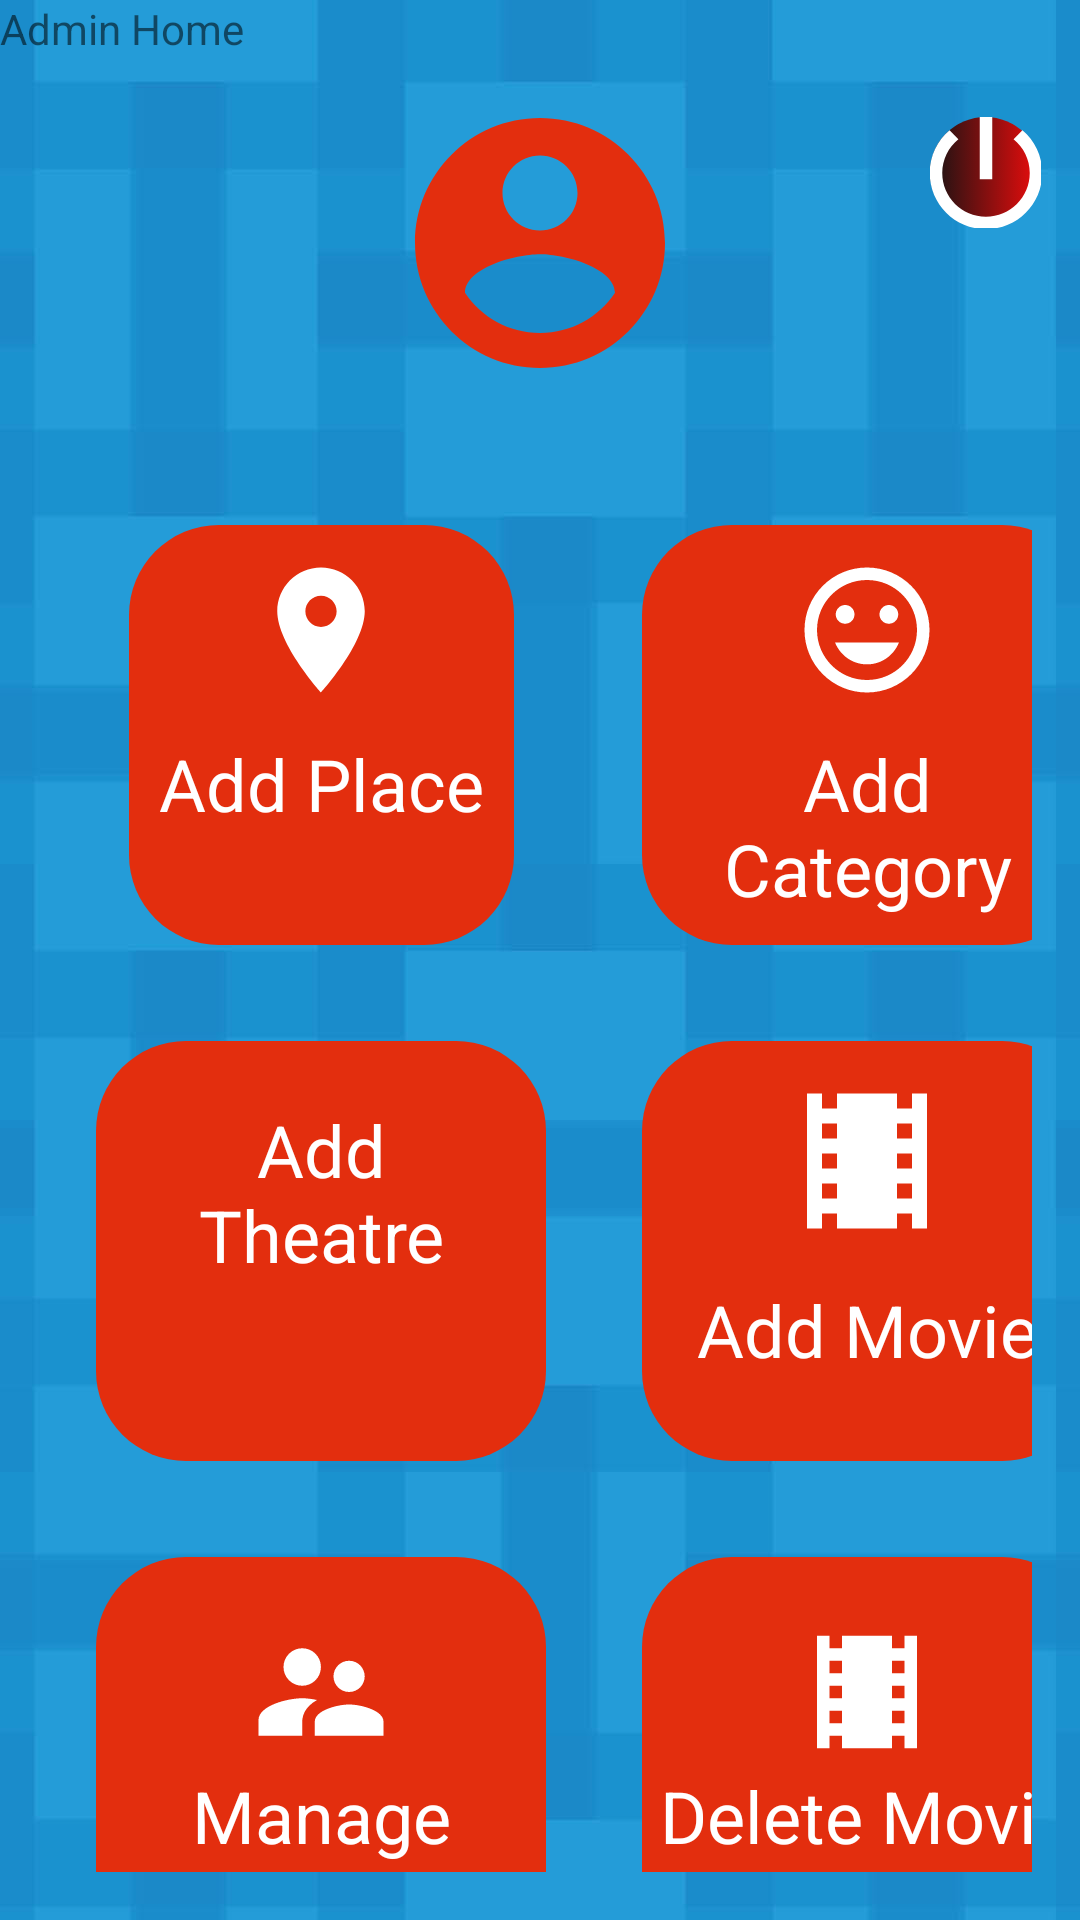

Where to tap for icons on this 1080×1920 app screen, as [x,y]:
account circle: [540,243]
insert emoticon: [867,630]
location on: [321,630]
supervisor account: [321,1692]
theaters: [867,1161], [867,1692]
